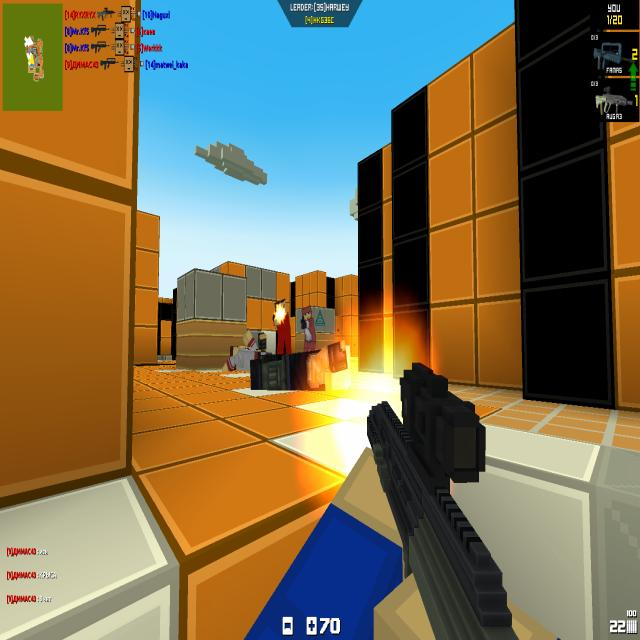enemy: (272, 298, 291, 355), (300, 305, 317, 351)
